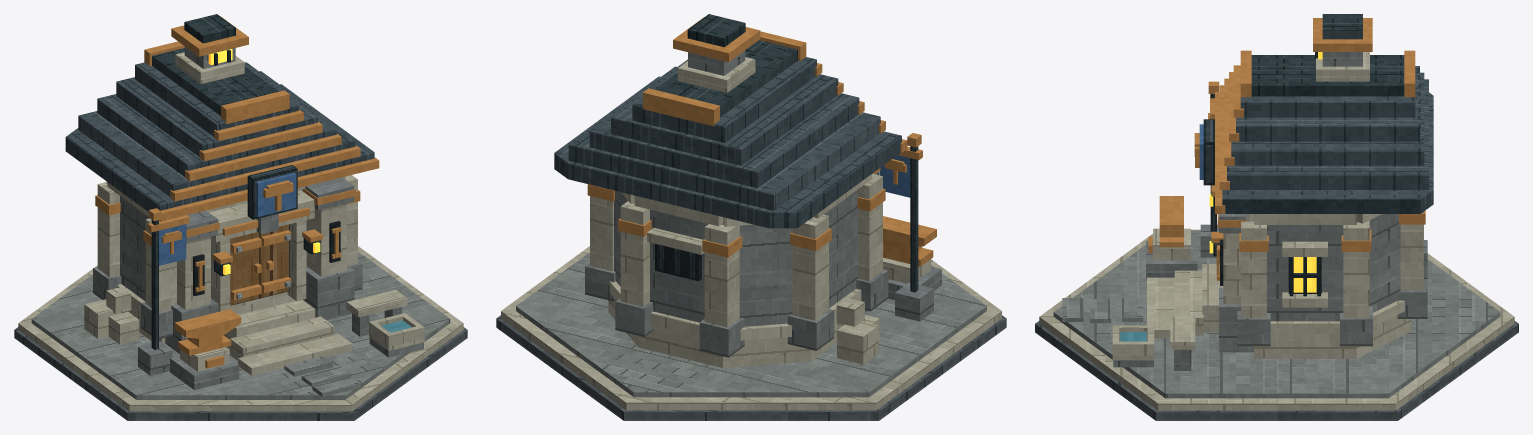
Rendered from dwarf_city_level_1_hex_v1.glb.
3 views of the same model, side by side, from view 1: azimuth 30°, elevation 25°; view 2: azimuth 150°, elevation 25°; view 3: azimuth 270°, elevation 25° (orthographic). The views are drawn at different scales.
Parts seen in each view (by area): view 1: Dwarf_City_Level_1_Hex_V1_Roofs, Dwarf_City_Level_1_Hex_V1_Foundation, Dwarf_City_Level_1_Hex_V1_Masonry, Dwarf_City_Level_1_Hex_V1_Details, Dwarf_City_Level_1_Hex_V1_Courtyard, Dwarf_City_Level_1_Hex_V1_Architecture, Dwarf_City_Level_1_Hex_V1_Council, Dwarf_City_Level_1_Hex_V1_Faction; view 2: Dwarf_City_Level_1_Hex_V1_Roofs, Dwarf_City_Level_1_Hex_V1_Foundation, Dwarf_City_Level_1_Hex_V1_Council, Dwarf_City_Level_1_Hex_V1_Masonry, Dwarf_City_Level_1_Hex_V1_Details, Dwarf_City_Level_1_Hex_V1_Architecture, Dwarf_City_Level_1_Hex_V1_Courtyard, Dwarf_City_Level_1_Hex_V1_Faction; view 3: Dwarf_City_Level_1_Hex_V1_Foundation, Dwarf_City_Level_1_Hex_V1_Roofs, Dwarf_City_Level_1_Hex_V1_Council, Dwarf_City_Level_1_Hex_V1_Masonry, Dwarf_City_Level_1_Hex_V1_Courtyard, Dwarf_City_Level_1_Hex_V1_Details, Dwarf_City_Level_1_Hex_V1_Architecture.
Boxes of the visible parts, <box> form: Dwarf_City_Level_1_Hex_V1_Roofs: <box>65,14,379,221</box>; Dwarf_City_Level_1_Hex_V1_Foundation: <box>14,246,467,420</box>; Dwarf_City_Level_1_Hex_V1_Masonry: <box>93,175,362,353</box>; Dwarf_City_Level_1_Hex_V1_Details: <box>84,49,407,375</box>; Dwarf_City_Level_1_Hex_V1_Courtyard: <box>170,300,424,396</box>; Dwarf_City_Level_1_Hex_V1_Architecture: <box>193,165,340,311</box>; Dwarf_City_Level_1_Hex_V1_Council: <box>106,46,345,346</box>; Dwarf_City_Level_1_Hex_V1_Faction: <box>159,173,296,265</box>; Dwarf_City_Level_1_Hex_V1_Roofs: <box>554,14,907,228</box>; Dwarf_City_Level_1_Hex_V1_Foundation: <box>496,246,1006,420</box>; Dwarf_City_Level_1_Hex_V1_Council: <box>608,50,872,367</box>; Dwarf_City_Level_1_Hex_V1_Masonry: <box>585,168,888,357</box>; Dwarf_City_Level_1_Hex_V1_Details: <box>836,133,936,364</box>; Dwarf_City_Level_1_Hex_V1_Architecture: <box>647,227,704,281</box>; Dwarf_City_Level_1_Hex_V1_Courtyard: <box>883,257,941,300</box>; Dwarf_City_Level_1_Hex_V1_Faction: <box>879,155,910,197</box>; Dwarf_City_Level_1_Hex_V1_Foundation: <box>1035,229,1518,420</box>; Dwarf_City_Level_1_Hex_V1_Roofs: <box>1215,14,1433,213</box>; Dwarf_City_Level_1_Hex_V1_Council: <box>1246,52,1410,358</box>; Dwarf_City_Level_1_Hex_V1_Masonry: <box>1217,210,1427,352</box>; Dwarf_City_Level_1_Hex_V1_Courtyard: <box>1062,228,1223,367</box>; Dwarf_City_Level_1_Hex_V1_Details: <box>1148,52,1322,370</box>; Dwarf_City_Level_1_Hex_V1_Architecture: <box>1203,119,1327,307</box>.
Size of the model in its own units: 1.45 by 1.19 by 1.68.
1 material, 1 textured.
